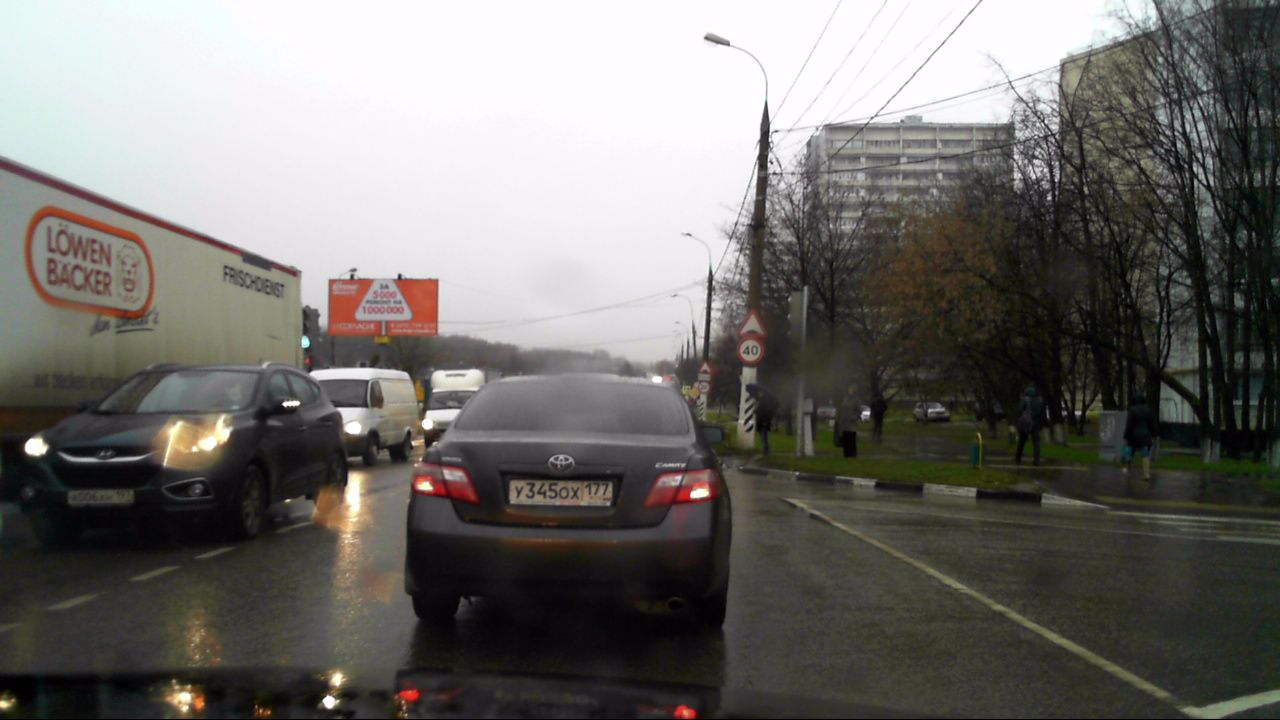speed_warning_40: (739, 338, 762, 361)
